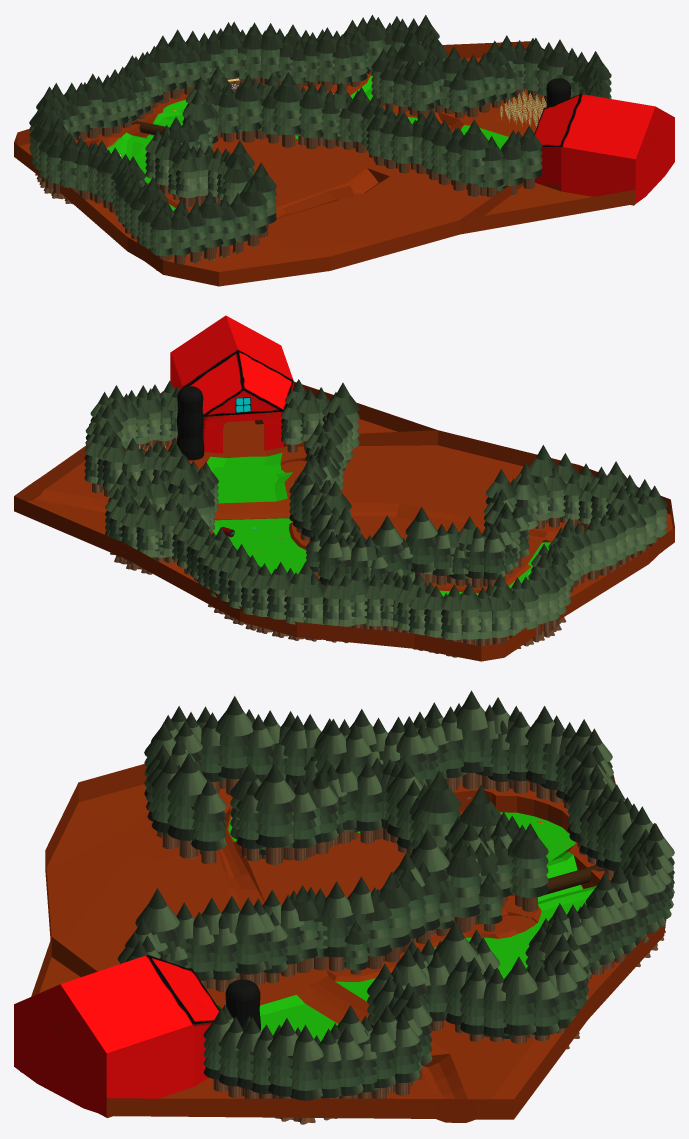
The model's file is mapaPerugaCorrecciones.fbx.
3 renders of one model, top to bottom at view 1: azimuth 30°, elevation 25°; view 2: azimuth 150°, elevation 25°; view 3: azimuth 270°, elevation 25°, orthographic. The views are drawn at different scales.
Visible parts, largest first — view 1: mapa, pino.075, pino.062, pino.078, pino.074, pino.012, pino.015, pino.059, pino.067, pino.159, pino.023, pino.137 (+71 smaller); view 2: mapa, mapa.007, pino.030, pino.032, pino.223, pino.236, pino.235, pino.209, pino.026, pino.018, pino.058, pino.062 (+53 smaller); view 3: mapa, pino.095, pino.016, pino.036, pino.098, pino.205, pino.041, pino.017, pino.185, pino.030, pino.111, pino.051 (+76 smaller).
Part boxes in pixels (<box>): mapa: <box>14,41,674,286</box>; pino.075: <box>273,72,303,147</box>; pino.062: <box>458,119,488,196</box>; pino.078: <box>235,74,262,142</box>; pino.074: <box>299,82,324,149</box>; pino.012: <box>199,191,223,260</box>; pino.015: <box>241,179,266,246</box>; pino.059: <box>519,125,542,188</box>; pino.067: <box>391,112,413,173</box>; pino.159: <box>411,61,434,119</box>; pino.023: <box>175,148,197,206</box>; pino.137: <box>260,23,282,84</box>; mapa: <box>14,315,674,661</box>; mapa.007: <box>176,386,204,460</box>; pino.030: <box>405,506,437,584</box>; pino.032: <box>372,515,403,577</box>; pino.223: <box>266,562,290,637</box>; pino.236: <box>461,582,481,645</box>; pino.235: <box>441,584,463,657</box>; pino.209: <box>136,502,159,574</box>; pino.026: <box>483,527,505,587</box>; pino.018: <box>514,472,538,539</box>; pino.058: <box>281,397,303,452</box>; pino.062: <box>326,382,359,462</box>; mapa: <box>14,764,666,1122</box>; pino.095: <box>254,763,295,864</box>; pino.016: <box>167,753,207,858</box>; pino.036: <box>512,823,548,918</box>; pino.098: <box>215,696,252,795</box>; pino.205: <box>501,956,537,1043</box>; pino.041: <box>446,840,481,932</box>; pino.017: <box>191,779,226,864</box>; pino.185: <box>288,1024,323,1124</box>; pino.030: <box>417,770,460,854</box>; pino.111: <box>456,690,487,799</box>; pino.051: <box>235,897,266,984</box>.
Size of the model in its own units: 11005 by 1929 by 8910.
